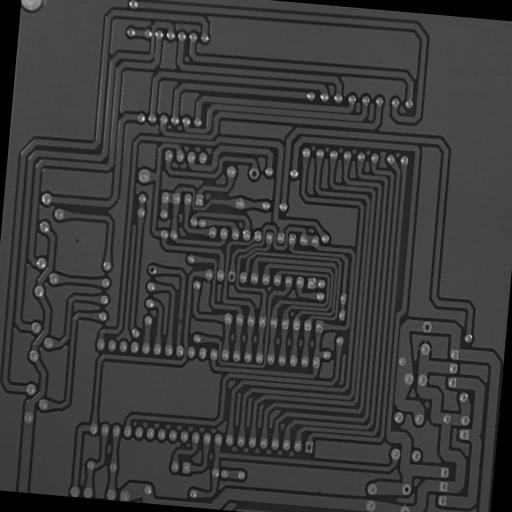missing_hole: (248, 166, 260, 182), (226, 270, 238, 284), (401, 482, 412, 497), (422, 320, 433, 334), (148, 263, 158, 276), (305, 441, 314, 454)
